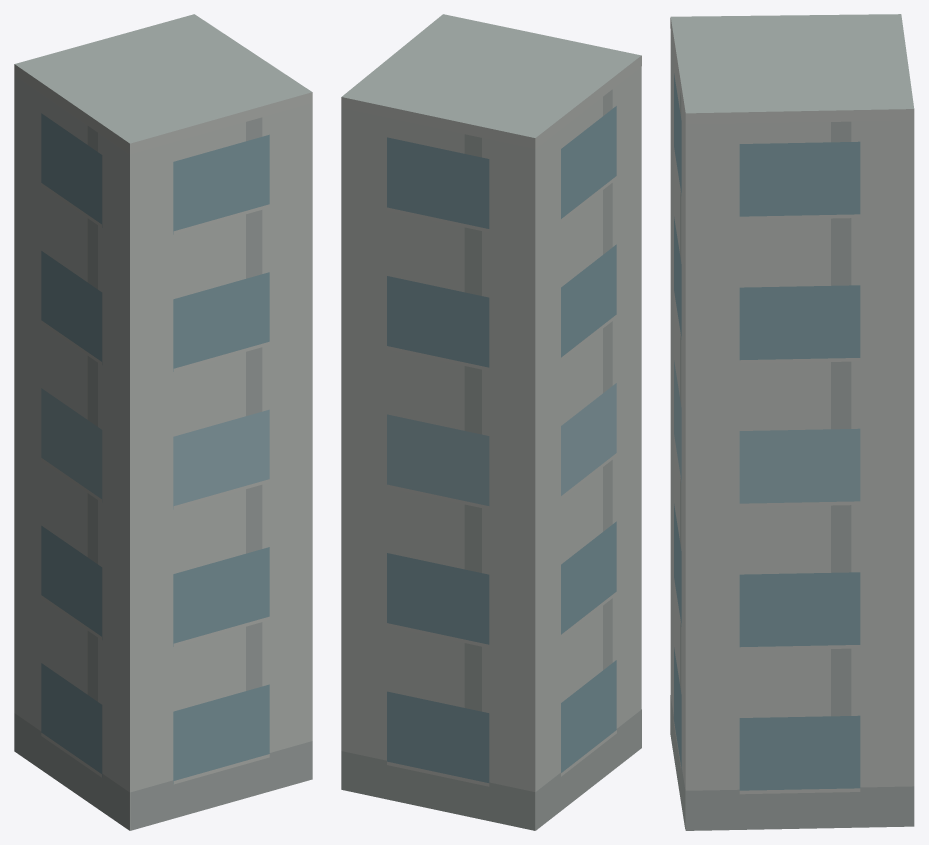
Rendered from survey-upis-32634522.glb.
3 renders of one model, left to right at view 1: azimuth 30°, elevation 25°; view 2: azimuth 150°, elevation 25°; view 3: azimuth 270°, elevation 25°, orthographic. The views are drawn at different scales.
Visible parts, largest first — view 1: survey-upis-32634522.tmp; view 2: survey-upis-32634522.tmp; view 3: survey-upis-32634522.tmp.
Boxes of the visible parts, x1,y1,x2,y2 form: survey-upis-32634522.tmp: (14,14,312,830); survey-upis-32634522.tmp: (341,14,641,830); survey-upis-32634522.tmp: (670,14,914,830).
Bounding box in the file's own units: 4.54 × 15.25 × 4.7.
